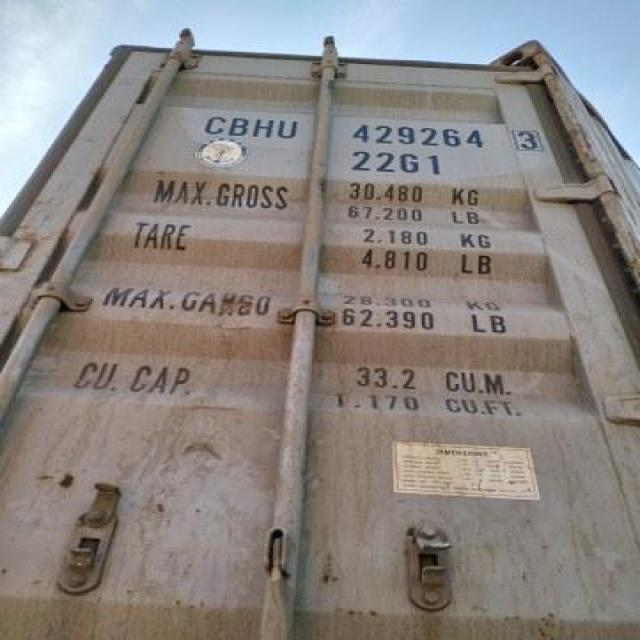ISO: (348, 144, 456, 176)
container_number: (203, 116, 553, 153)
